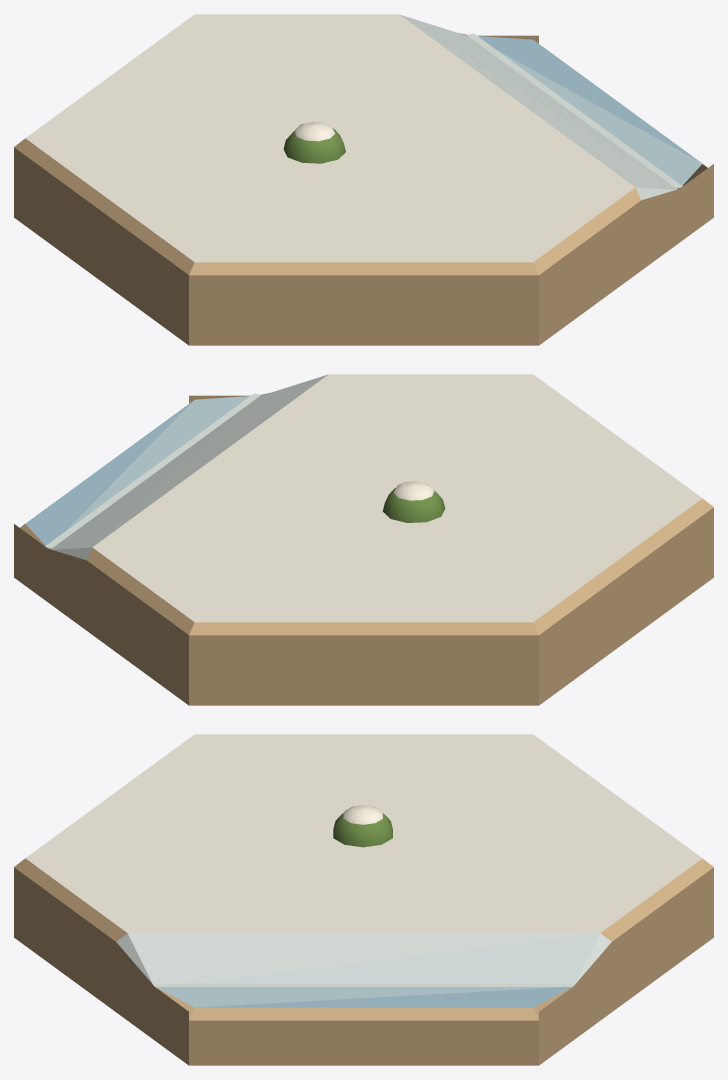
Rendered from coast_side_snow_1.fbx.
3 views of the same model, one above another, from view 1: azimuth 30°, elevation 25°; view 2: azimuth 150°, elevation 25°; view 3: azimuth 270°, elevation 25° (orthographic).
Parts seen in each view (by area): view 1: coast_side_snow_1; view 2: coast_side_snow_1; view 3: coast_side_snow_1.
Boxes of the visible parts, x1,y1,x2,y2 form: coast_side_snow_1: (14,14,713,345); coast_side_snow_1: (14,374,713,705); coast_side_snow_1: (14,734,713,1065).
Bounding box in the file's own units: 1.73 × 0.331 × 2.
